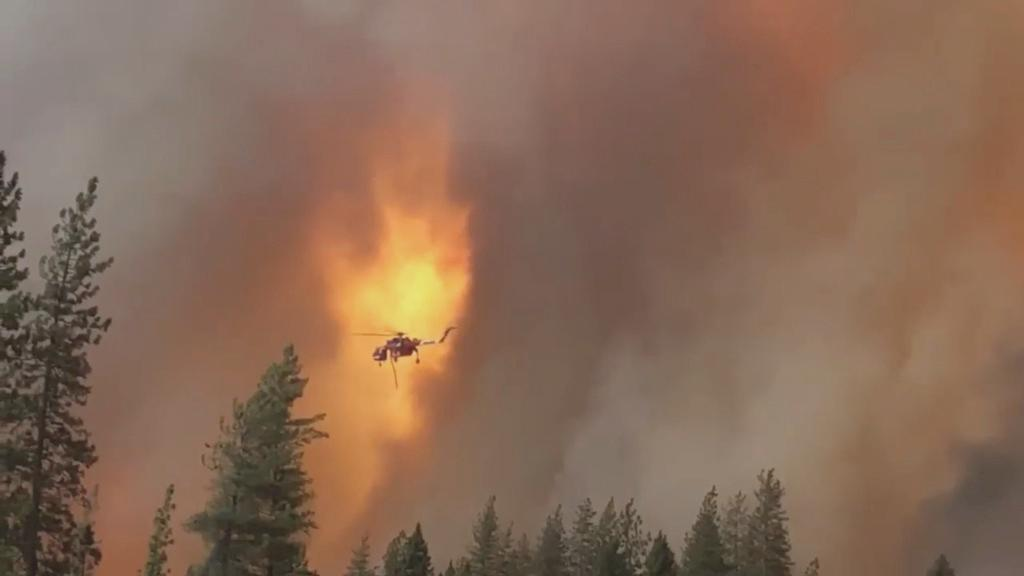Fire: (310, 108, 471, 487)
